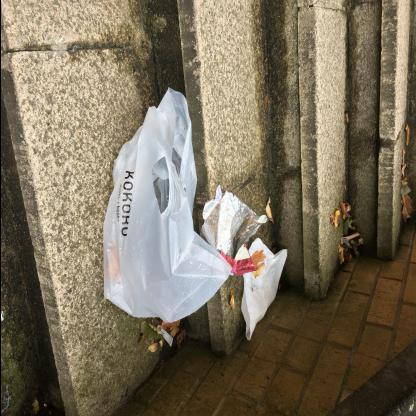kagit: (241, 239, 288, 343)
plastik: (100, 89, 231, 326), (200, 187, 268, 275)
